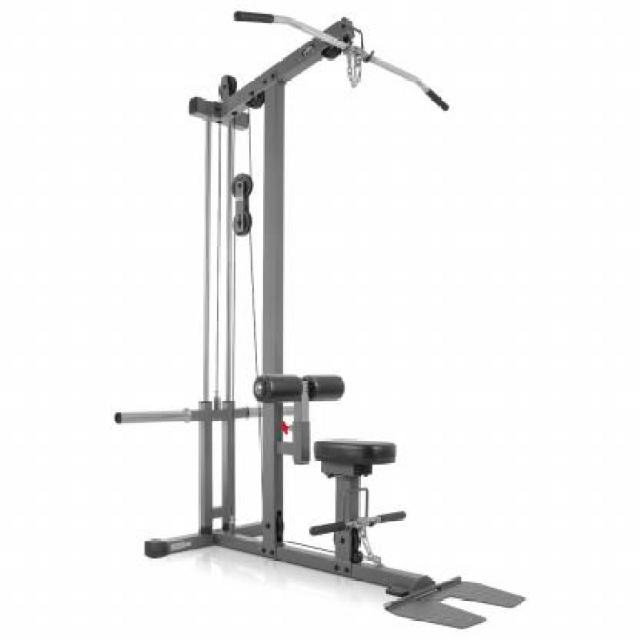Lat Pull Down: (117, 7, 534, 636)
